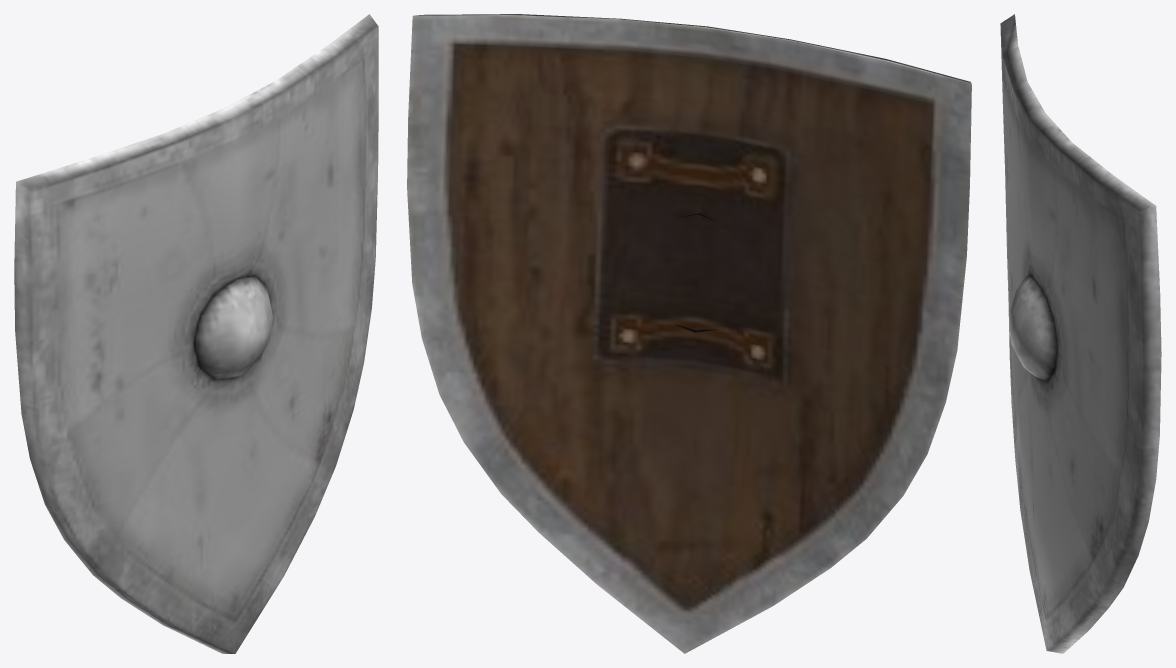
File: shield-bronzeshields.glb
3 views of the same model, side by side, from view 1: azimuth 30°, elevation 25°; view 2: azimuth 150°, elevation 25°; view 3: azimuth 270°, elevation 25° (orthographic). The views are drawn at different scales.
Size of the model in its own units: 0.624 by 0.7752 by 0.2094.
Materials: 1 (1 with a texture image).
